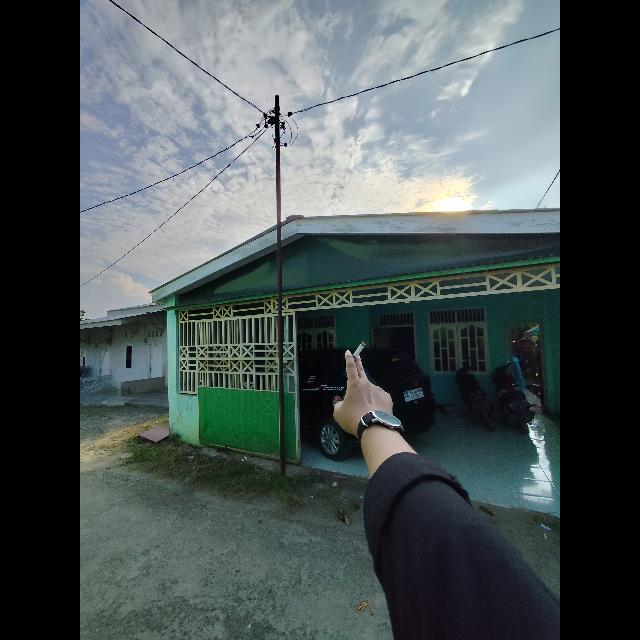rokok: (350, 339, 366, 358)
